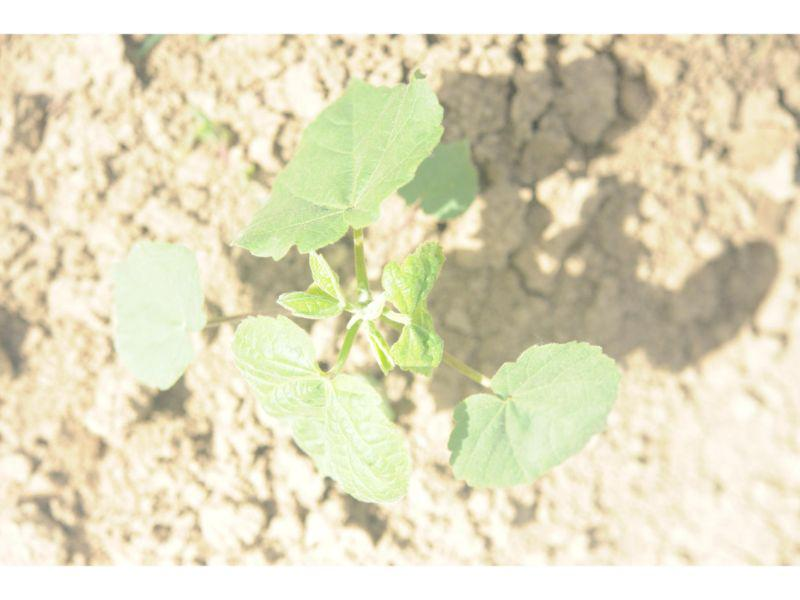velvet: (113, 76, 616, 501)
